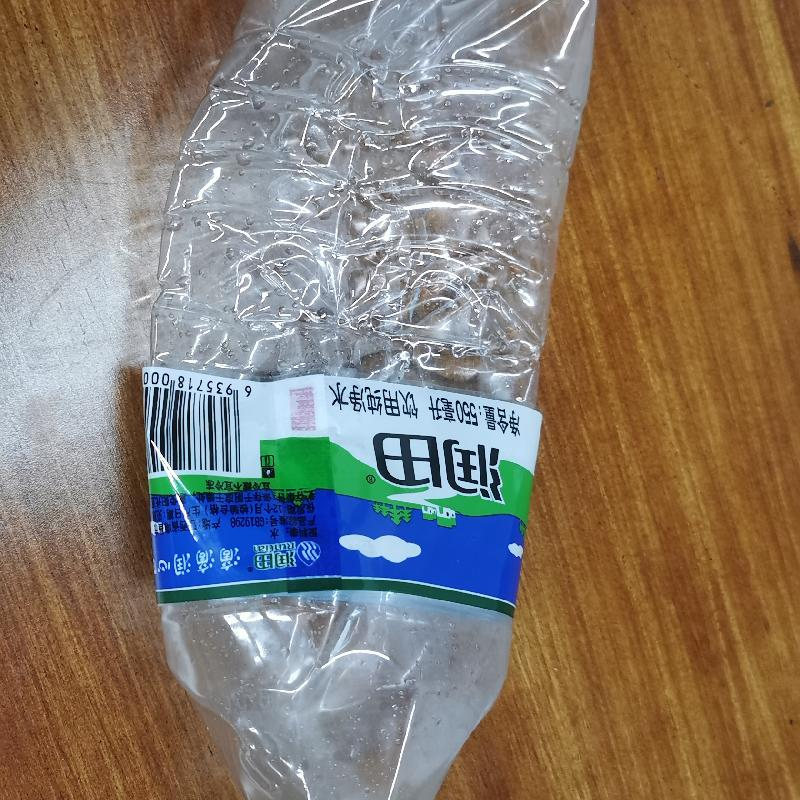bottles: (141, 4, 602, 799)
